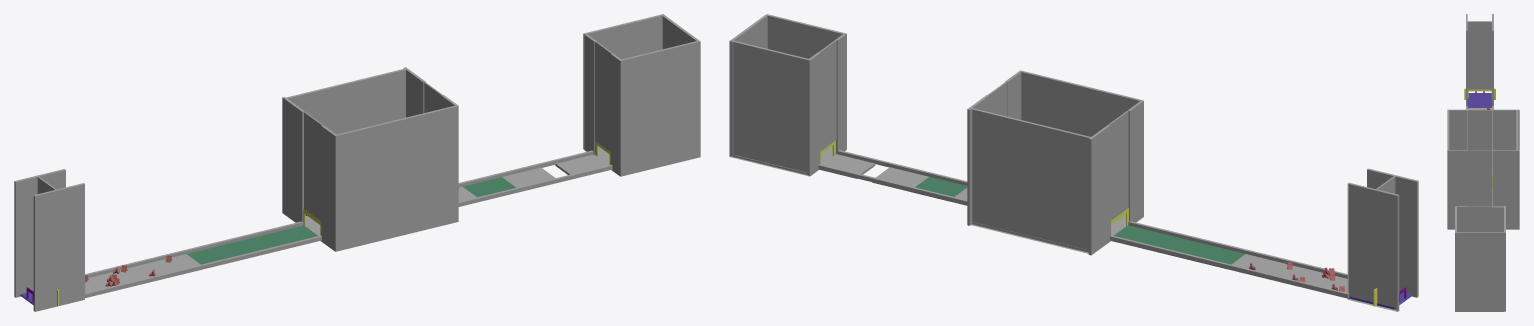
The model's file is Floor -1 Level 1.fbx.
3 views of the same model, side by side, from view 1: azimuth 30°, elevation 25°; view 2: azimuth 150°, elevation 25°; view 3: azimuth 270°, elevation 25° (orthographic). The views are drawn at different scales.
Parts seen in each view (by area): view 1: pCube112, pCube121, pCube109, pCube111, pCube110, pCube113, pCube122, pCube114, pCube244, pCube242, pCube103, pCube107 (+13 smaller); view 2: pCube111, pCube122, pCube110, pCube112, pCube109, pCube113, pCube121, pCube114, pCube244, pCube242, pCube103, pCube119 (+16 smaller); view 3: pCube123, pCube116, pCube245, pCube115, pCube243, pCube113, pCube244, pCube114, pCube242, travelator17, pCube119, pCube120 (+8 smaller).
Part boxes in pixels (box(x1,y1,x2,y2)): pCube112: box(335, 105, 458, 251); pCube121: box(619, 40, 700, 176); pCube109: box(33, 183, 84, 311); pCube111: box(284, 68, 407, 134); pCube110: box(14, 169, 65, 297); pCube113: box(282, 97, 304, 222); pCube122: box(583, 14, 664, 149); pCube114: box(321, 125, 335, 251); pCube244: box(304, 111, 322, 220); pCube242: box(595, 41, 613, 151); pCube103: box(85, 254, 200, 292); pCube107: box(84, 235, 321, 298); pCube111: box(969, 107, 1092, 253); pCube122: box(729, 40, 811, 176); pCube110: box(1347, 182, 1399, 311); pCube112: box(1020, 70, 1143, 136); pCube109: box(1367, 168, 1418, 297); pCube113: box(1088, 124, 1110, 255); pCube121: box(766, 14, 846, 149); pCube114: box(1127, 100, 1143, 222); pCube244: box(1109, 111, 1128, 220); pCube242: box(818, 40, 836, 151); pCube103: box(1228, 254, 1349, 298); pCube119: box(807, 52, 820, 175); pCube123: box(1457, 232, 1504, 311); pCube116: box(1492, 150, 1519, 229); pCube245: box(1467, 21, 1491, 89); pCube115: box(1447, 150, 1467, 229); pCube243: box(1468, 150, 1491, 206); pCube113: box(1492, 109, 1519, 149); pCube244: box(1467, 110, 1491, 149); pCube114: box(1448, 109, 1466, 149); pCube242: box(1468, 206, 1491, 232); travelator17: box(1467, 93, 1491, 108); pCube119: box(1491, 206, 1503, 232); pCube120: box(1456, 206, 1467, 232).
Size of the model in its own units: 201 by 34.29 by 28.11.
